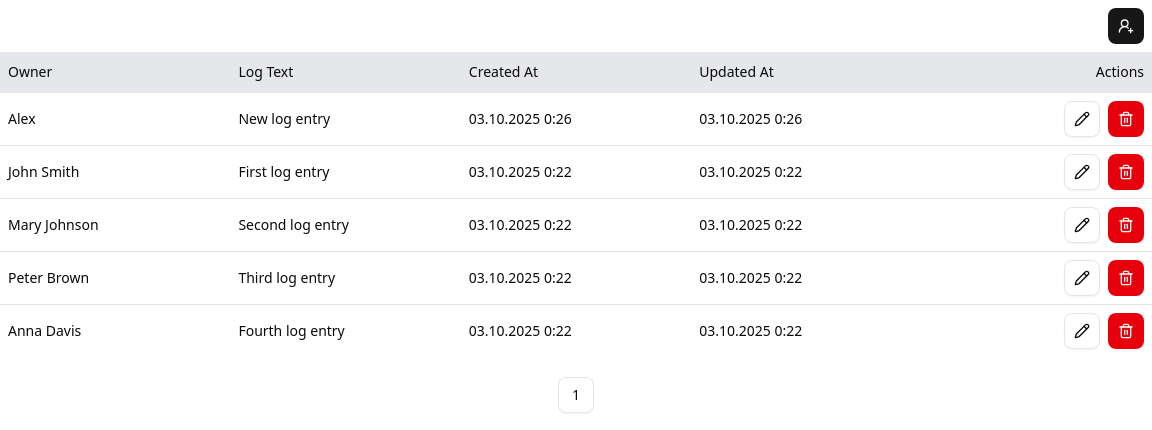
Scenario: CRUD Logs › Update Log › Edits a log and updates the table
Click the button with test id "edit-mode-btn" at {"x": 1082, "y": 119}, box [1064, 101, 1100, 137]
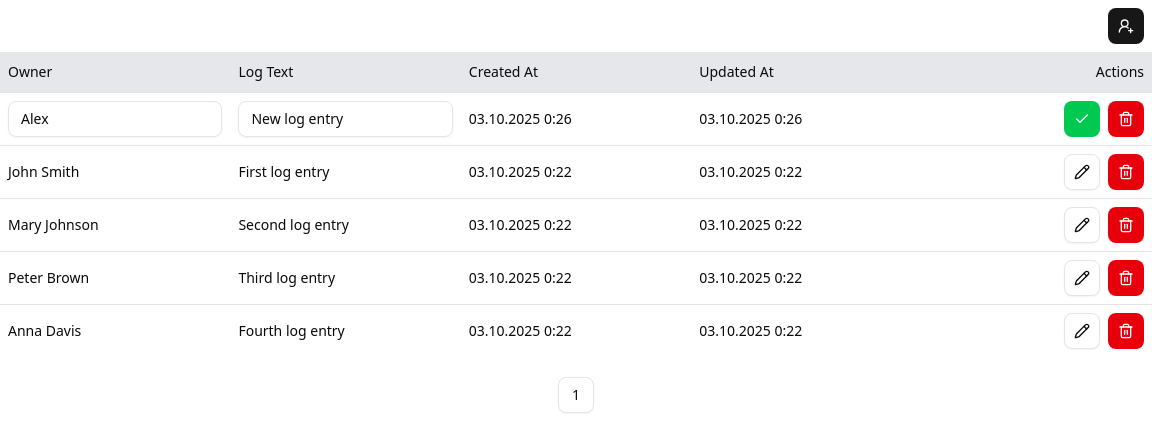
expect the field with test id "owner-edit-input" is shown: met
Replace the text in the field with test id "owner-edit-input" with "Alice" at {"x": 115, "y": 119}, box [8, 101, 222, 137]
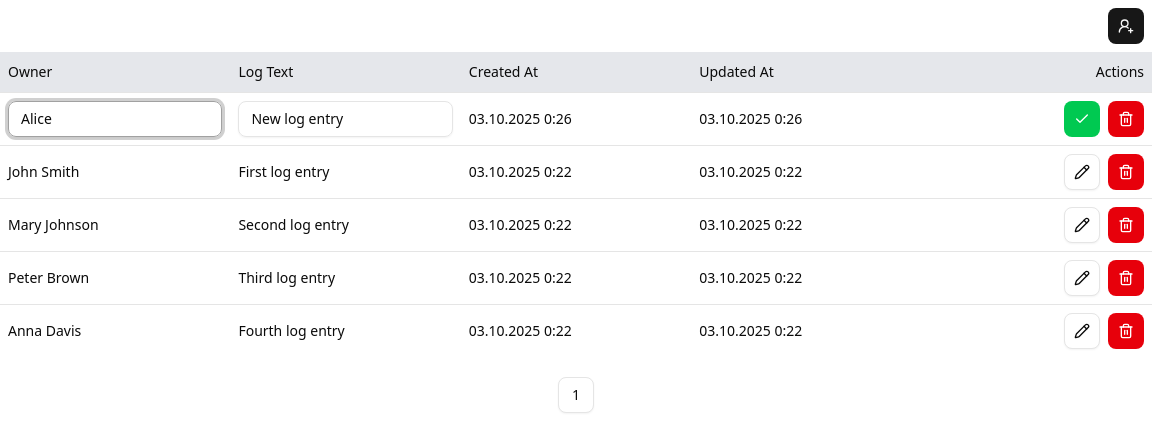
expect the field with test id "text-edit-input" is shown: met
expect the field with test id "owner-edit-input" holds "Alice": met, box [8, 101, 222, 137]
Replace the text in the field with test id "text-edit-input" with "This is a new log" at {"x": 345, "y": 119}, box [238, 101, 452, 137]
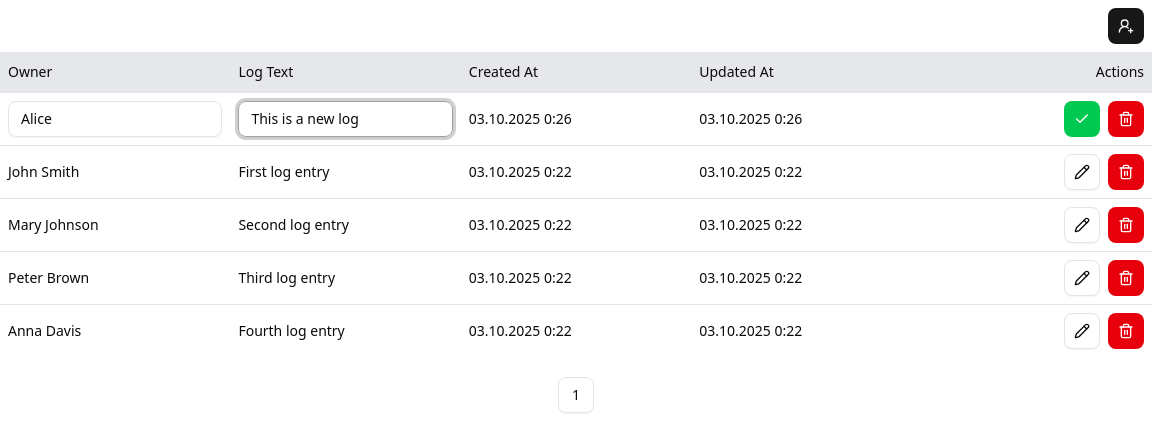
expect the field with test id "text-edit-input" holds "This is a new log": met, box [238, 101, 452, 137]
Click the button with test id "edit-mode-submit-btn" at {"x": 1082, "y": 119}, box [1064, 101, 1100, 137]
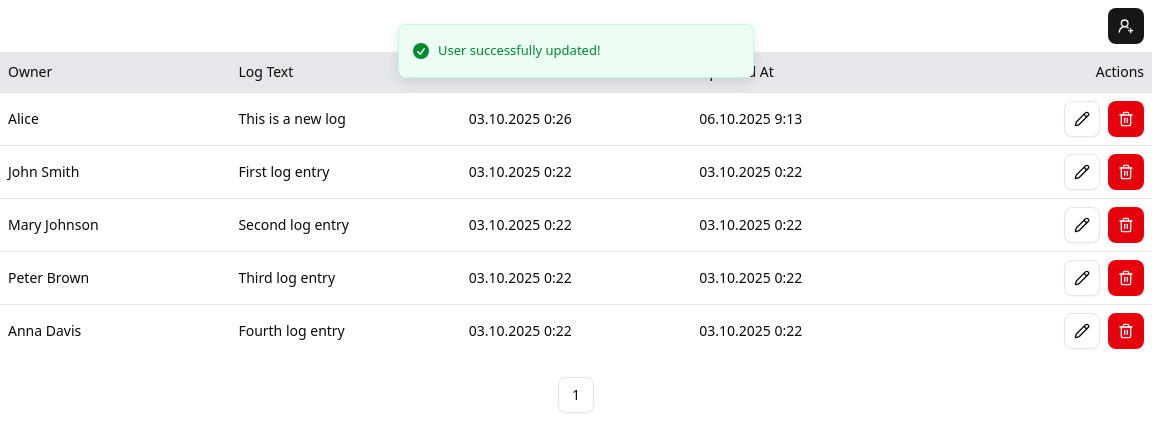
expect the cell with test id "user-table" reads "Alice": met, box [8, 109, 39, 128]
expect the cell with test id "user-table" reads "This is a new log": met, box [238, 109, 345, 128]
